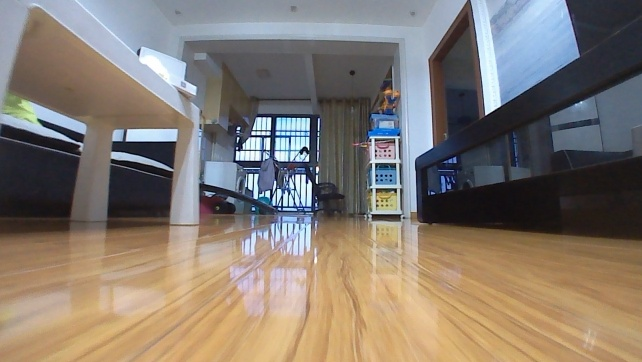TV_stand: (412, 13, 641, 226)
sofa1: (0, 115, 179, 218)
